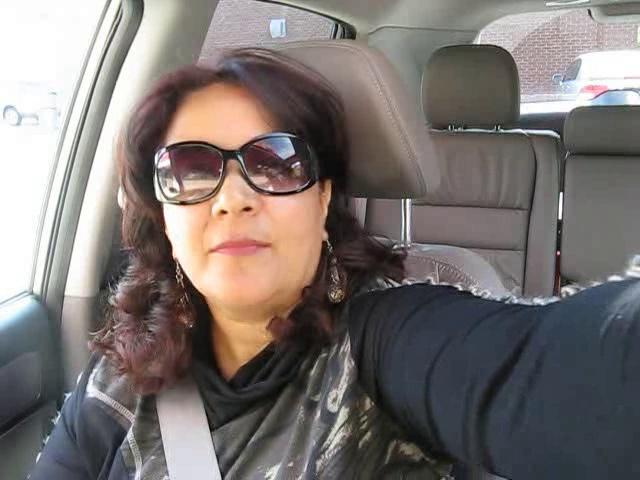no_yawn: (189, 222, 283, 272)
